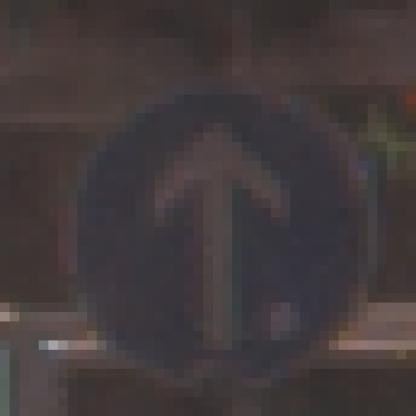AheadOnly: (59, 58, 369, 370)
